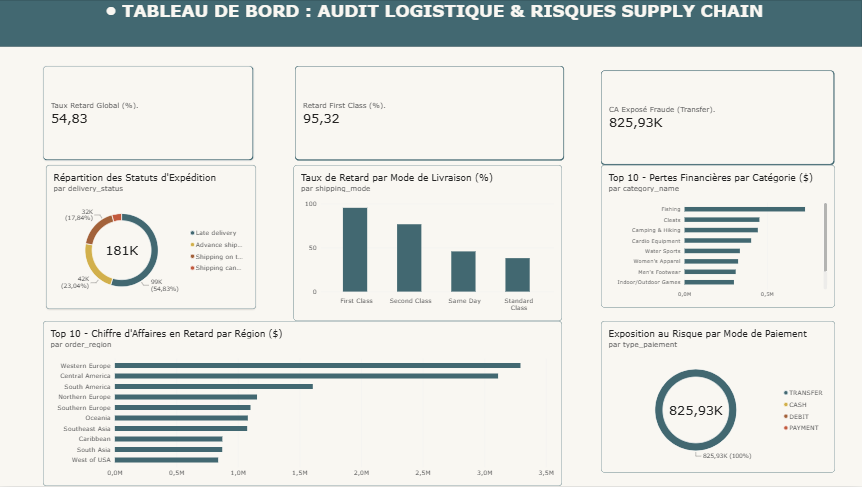

The page's visual inventory and layout, read from the dashboard file:
{"tool":"powerbi","page":{"name":"Page 1","canvas":[1920,1080],"ordinal":0},"visuals":[{"type":"cardVisual","fields":{"Data":["Sum(public v_kpi1_delivery_status.part_pourcentage)"]},"box":[100,146.7,467.7,209.8],"z":0},{"type":"cardVisual","fields":{"Data":["Sum(public v_kpi2_shipping_mode.taux_retard_pct)"]},"box":[660,146.7,598.1,209.8],"z":1000},{"type":"cardVisual","fields":{"Data":["Sum(public v_kpi5_fraud_risk.ca_expose_fraude_usd)"]},"box":[1340,156.7,518.7,209.8],"z":2000},{"type":"donutChart","fields":{"Category":["public v_kpi1_delivery_status.delivery_status"],"Y":["Sum(public v_kpi1_delivery_status.nombre_expeditions)"]},"box":[106.7,366.7,466.7,320],"z":3000},{"type":"clusteredColumnChart","fields":{"Category":["public v_kpi2_shipping_mode.shipping_mode"],"Y":["Sum(public v_kpi2_shipping_mode.taux_retard_pct)"]},"box":[656.7,366.7,596.7,346.7],"z":4000},{"type":"clusteredBarChart","fields":{"Category":["public v_kpi4_category_losses.category_name"],"Y":["Sum(public v_kpi4_category_losses.montant_total_pertes_usd)"]},"box":[1340,366.7,520,316.7],"z":5000},{"type":"clusteredBarChart","fields":{"Category":["public v_kpi3_regional_risk.order_region"],"Y":["Sum(public v_kpi3_regional_risk.ca_en_retard)"]},"box":[100,713.3,1153.3,366.7],"z":6000},{"type":"donutChart","fields":{"Category":["public v_kpi5_fraud_risk.type_paiement"],"Y":["Sum(public v_kpi5_fraud_risk.ca_expose_fraude_usd)"]},"box":[1340,713.3,520,336.7],"z":7000},{"type":"shape","box":[0,0,1920,103.3],"z":8000},{"type":"textbox","box":[100,100,300,300],"z":8001},{"type":"textbox","box":[0,0,1920,100],"z":8002}]}

Visuals, with their boxes in screenshot pixels (x1, y1, x2, y2), scaled from the page's 1920x1080 canvas onto the 862x487 screenshot:
cardVisual - Sum(public v_kpi1_delivery_status.part_pourcentage): left=45, top=66, right=255, bottom=161
cardVisual - Sum(public v_kpi2_shipping_mode.taux_retard_pct): left=296, top=66, right=565, bottom=161
cardVisual - Sum(public v_kpi5_fraud_risk.ca_expose_fraude_usd): left=602, top=71, right=834, bottom=165
donutChart - public v_kpi1_delivery_status.delivery_status x Sum(public v_kpi1_delivery_status.nombre_expeditions): left=48, top=165, right=257, bottom=310
clusteredColumnChart - public v_kpi2_shipping_mode.shipping_mode x Sum(public v_kpi2_shipping_mode.taux_retard_pct): left=295, top=165, right=563, bottom=322
clusteredBarChart - public v_kpi4_category_losses.category_name x Sum(public v_kpi4_category_losses.montant_total_pertes_usd): left=602, top=165, right=835, bottom=308
clusteredBarChart - public v_kpi3_regional_risk.order_region x Sum(public v_kpi3_regional_risk.ca_en_retard): left=45, top=322, right=563, bottom=486
donutChart - public v_kpi5_fraud_risk.type_paiement x Sum(public v_kpi5_fraud_risk.ca_expose_fraude_usd): left=602, top=322, right=835, bottom=473
shape: left=0, top=0, right=861, bottom=47
textbox: left=45, top=45, right=180, bottom=180
textbox: left=0, top=0, right=861, bottom=45
